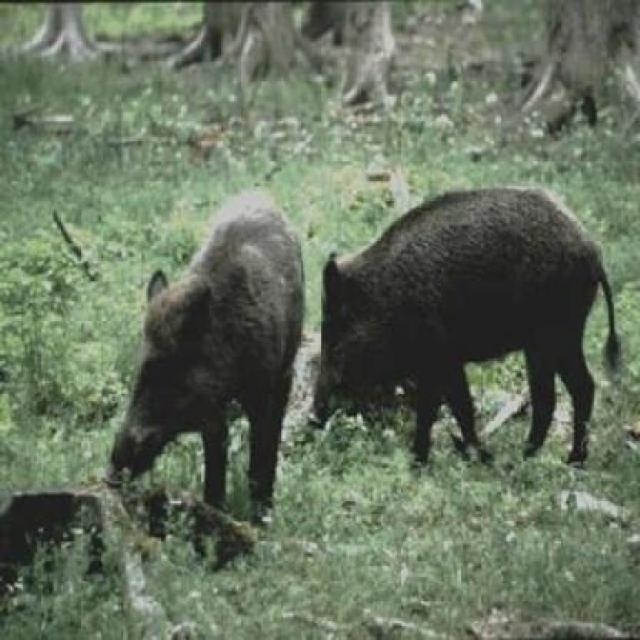Boar: (299, 186, 635, 485), (92, 171, 308, 520)
